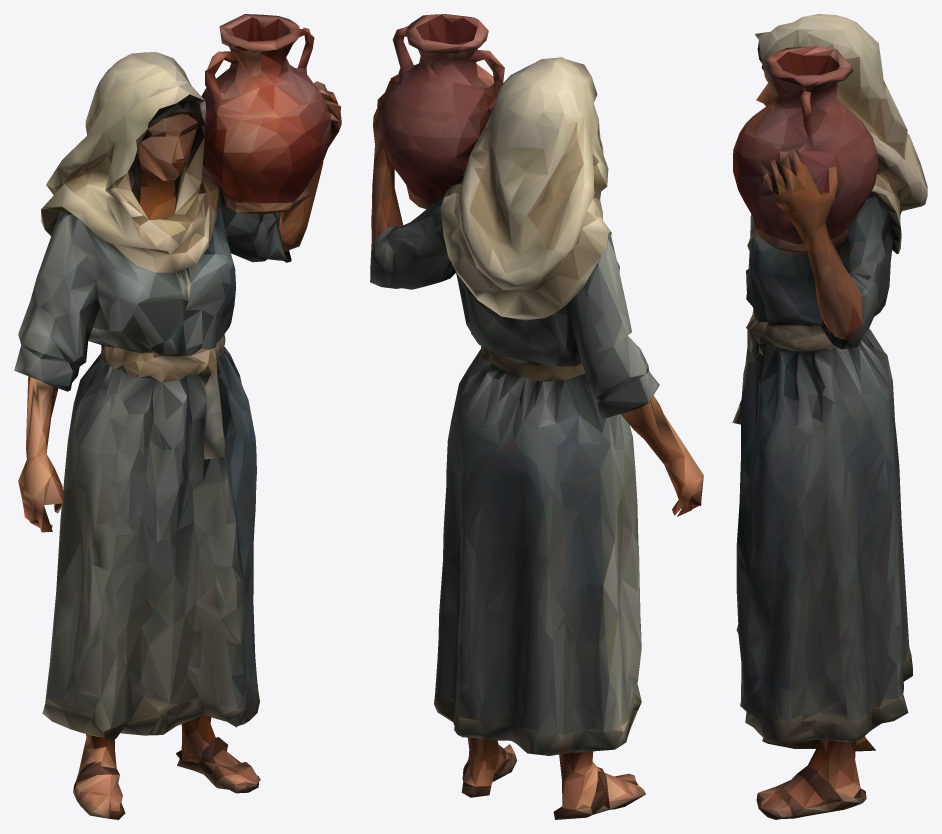
The model's file is c_donna.glb.
The picture shows the model from 3 angles, left to right: view 1: azimuth 30°, elevation 25°; view 2: azimuth 150°, elevation 25°; view 3: azimuth 270°, elevation 25°; orthographic projection. The views are drawn at different scales.
Visible parts, largest first — view 1: geometry_0; view 2: geometry_0; view 3: geometry_0.
Part boxes in pixels (x1=…): geometry_0: x1=14, y1=14, x2=341, y2=819; geometry_0: x1=370, y1=14, x2=703, y2=819; geometry_0: x1=732, y1=14, x2=927, y2=819.
Bounding box in the file's own units: 0.44 × 0.98 × 0.2258.
Materials: 1 (1 with a texture image).
